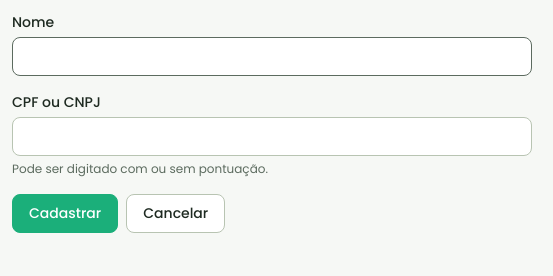
Scenario: ProducerForm › refuses an empty name without submitting
Step 1. Type "52998224725" into the field labelled "CPF ou CNPJ" → (272, 136), box [12,117,532,156]
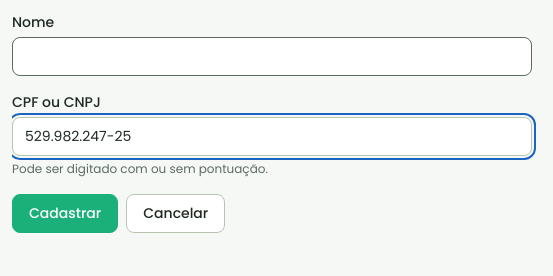
Step 2. Click the button "Cadastrar" → (65, 214), box [12,194,118,233]
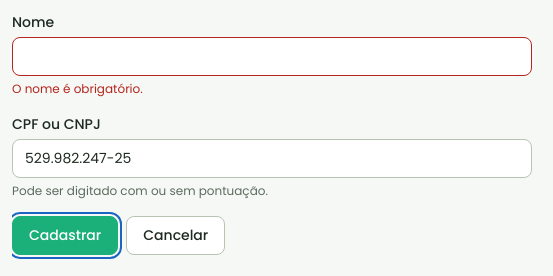
Check: the text "O nome é obrigatório." is shown, box [12,80,143,97]
